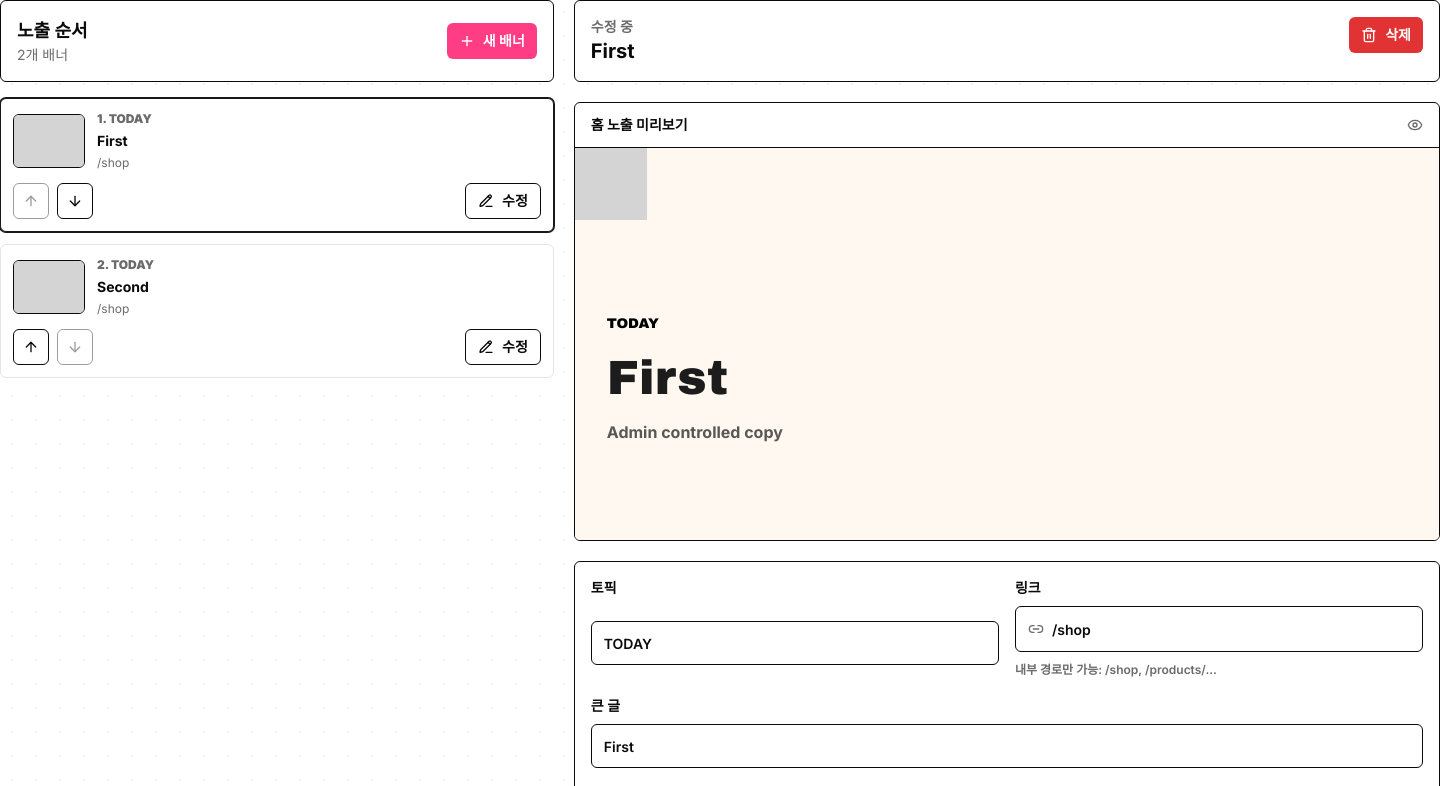
Test: AdminBannersClient › saves reordered banner ids
Step 1. Click the button named "Second 위로 이동" → [31, 347], box top-left (13, 329), bottom-right (49, 365)
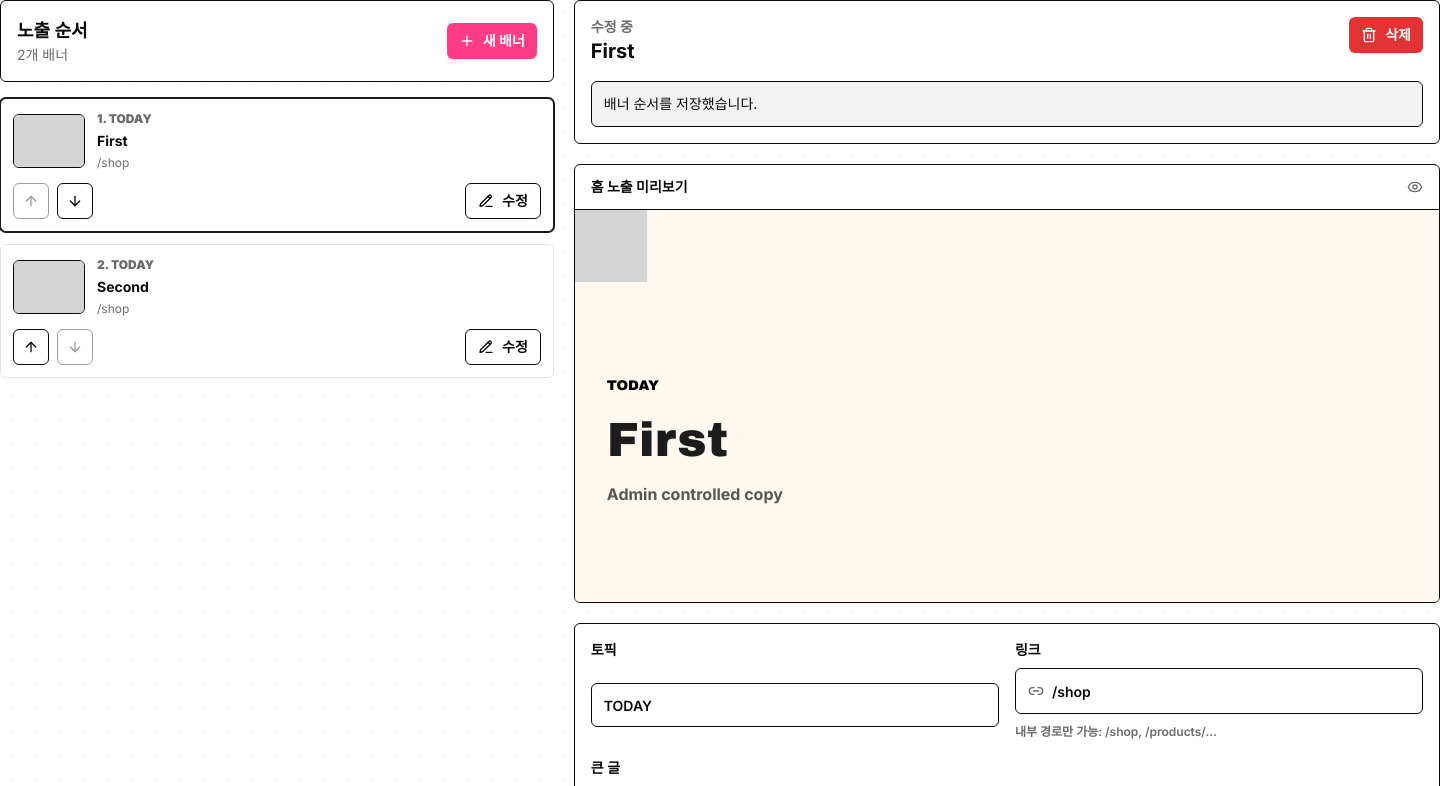
Expected: the message with test id "admin-banner-message" reads "배너 순서를 저장했습니다.", top-left (604, 95), bottom-right (757, 112)
